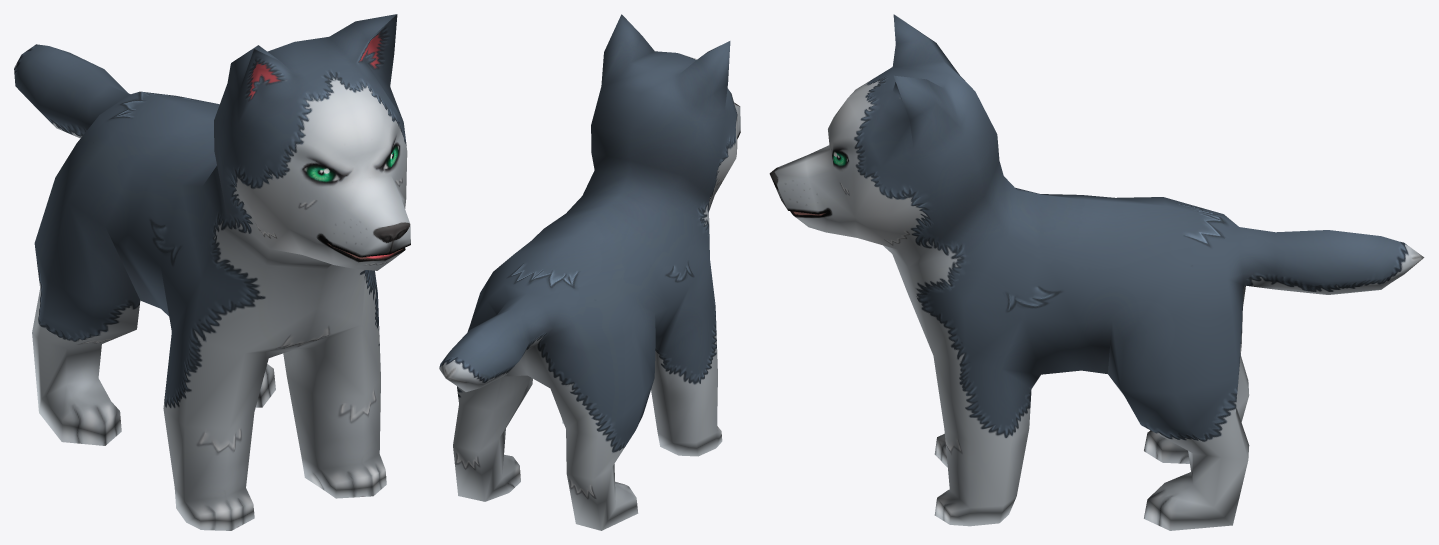
The model's file is dog.obj.
3 renders of one model, left to right at view 1: azimuth 30°, elevation 25°; view 2: azimuth 150°, elevation 25°; view 3: azimuth 270°, elevation 25°, orthographic. The views are drawn at different scales.
Parts seen in each view (by area): view 1: husky_mesh; view 2: husky_mesh; view 3: husky_mesh.
Boxes of the visible parts, x1,y1,x2,y2 form: husky_mesh: [14, 14, 410, 530]; husky_mesh: [439, 14, 740, 530]; husky_mesh: [769, 14, 1424, 530].
Size of the model in its own units: 0.00811 by 0.0164 by 0.0222.
Materials: 1 (1 with a texture image).
